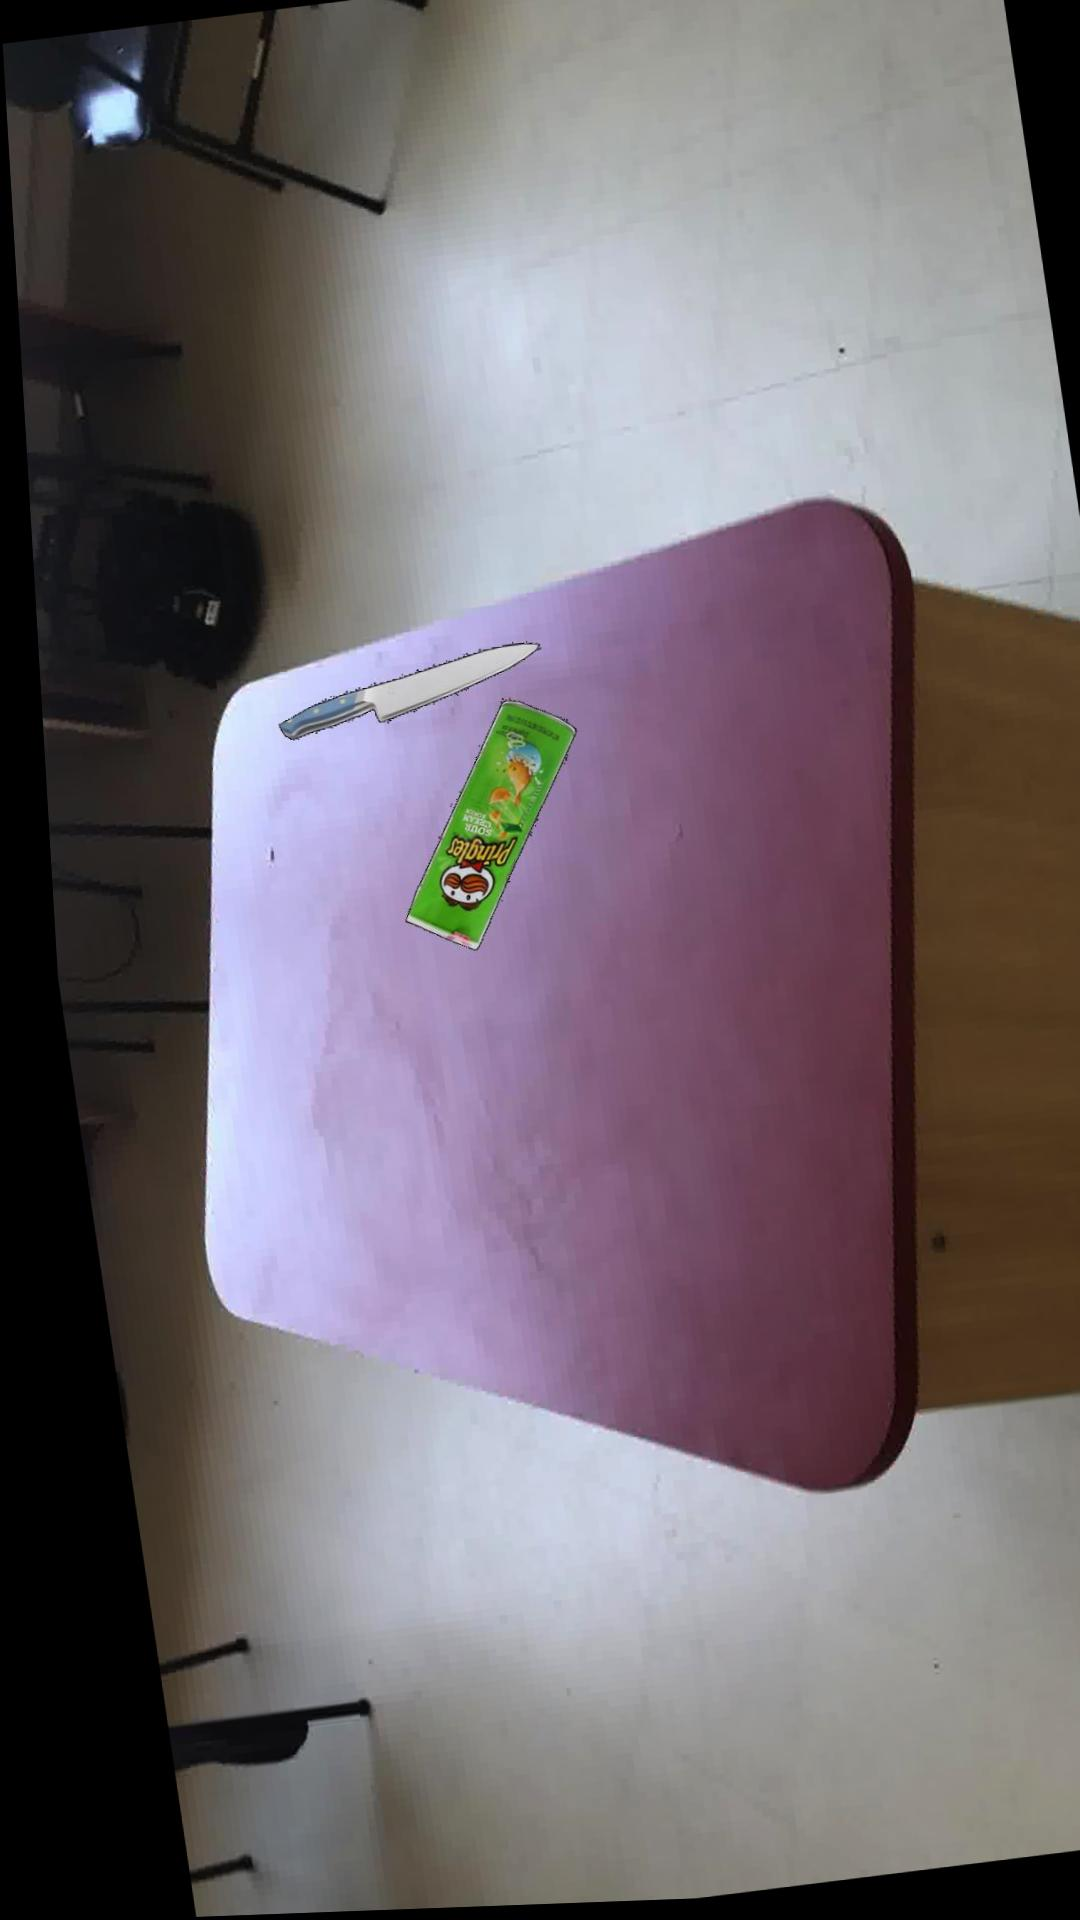knife: (272, 647, 533, 744)
pringles: (396, 704, 568, 955)
